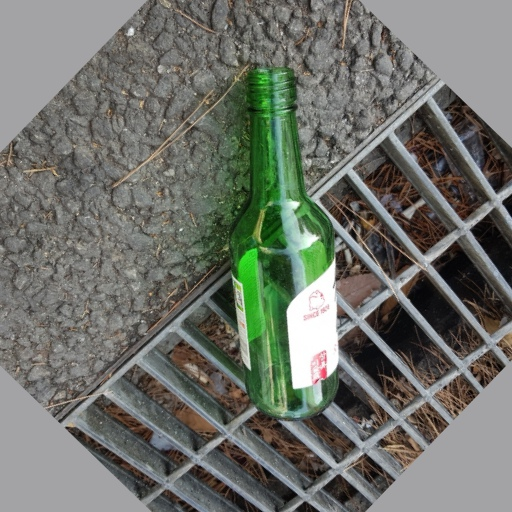Glass_0: (226, 61, 341, 419)
